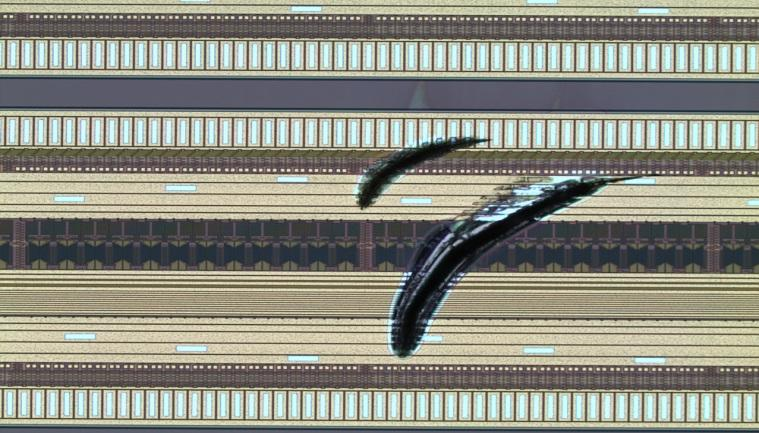SCRATCH: (354, 127, 669, 363)
